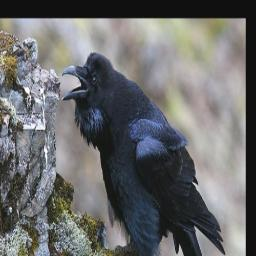Crow: (61, 51, 225, 256)
